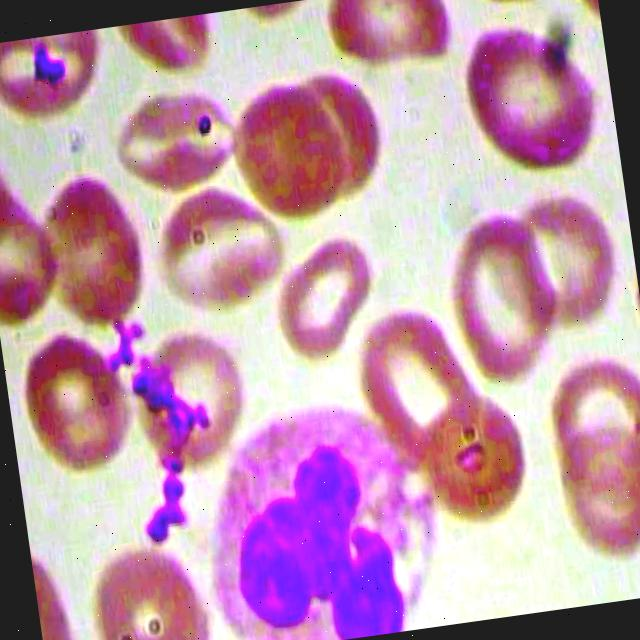RBC: (452, 9, 617, 187), (432, 205, 570, 393), (144, 168, 300, 320), (493, 175, 628, 341), (221, 72, 353, 235), (28, 164, 157, 329), (8, 318, 136, 484), (406, 377, 536, 540), (124, 314, 253, 478), (261, 219, 385, 376), (99, 75, 244, 200), (86, 533, 210, 640), (0, 27, 115, 134), (317, 0, 467, 76), (0, 173, 68, 329)
WBC: (180, 376, 465, 640)
